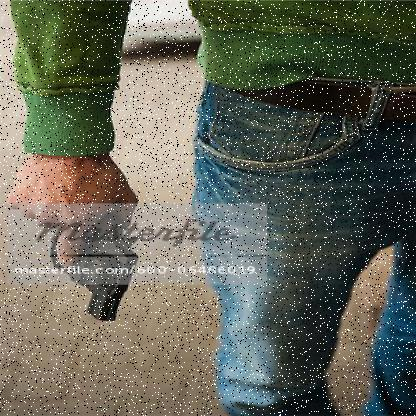pistol: (50, 196, 142, 324)
